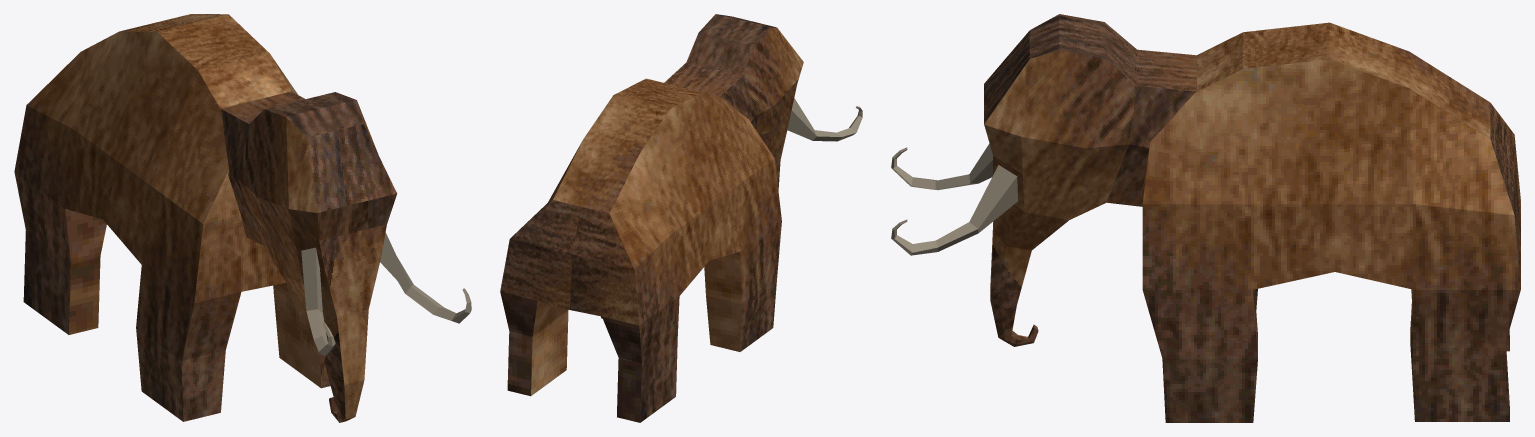
Rendered from mammoth.glb.
3 views of the same model, side by side, from view 1: azimuth 30°, elevation 25°; view 2: azimuth 150°, elevation 25°; view 3: azimuth 270°, elevation 25° (orthographic). The views are drawn at different scales.
Visible parts, largest first — view 1: body, head; view 2: body, head; view 3: body, head.
Boxes of the visible parts, x1=… form: body: x1=14, y1=14, x2=330, y2=421; head: x1=221, y1=91, x2=471, y2=422; body: x1=500, y1=78, x2=781, y2=422; head: x1=664, y1=14, x2=862, y2=190; body: x1=1142, y1=22, x2=1520, y2=422; head: x1=891, y1=14, x2=1196, y2=346.
Size of the model in its own units: 3.01 by 5.2 by 8.56.
2 materials, 1 textured.
